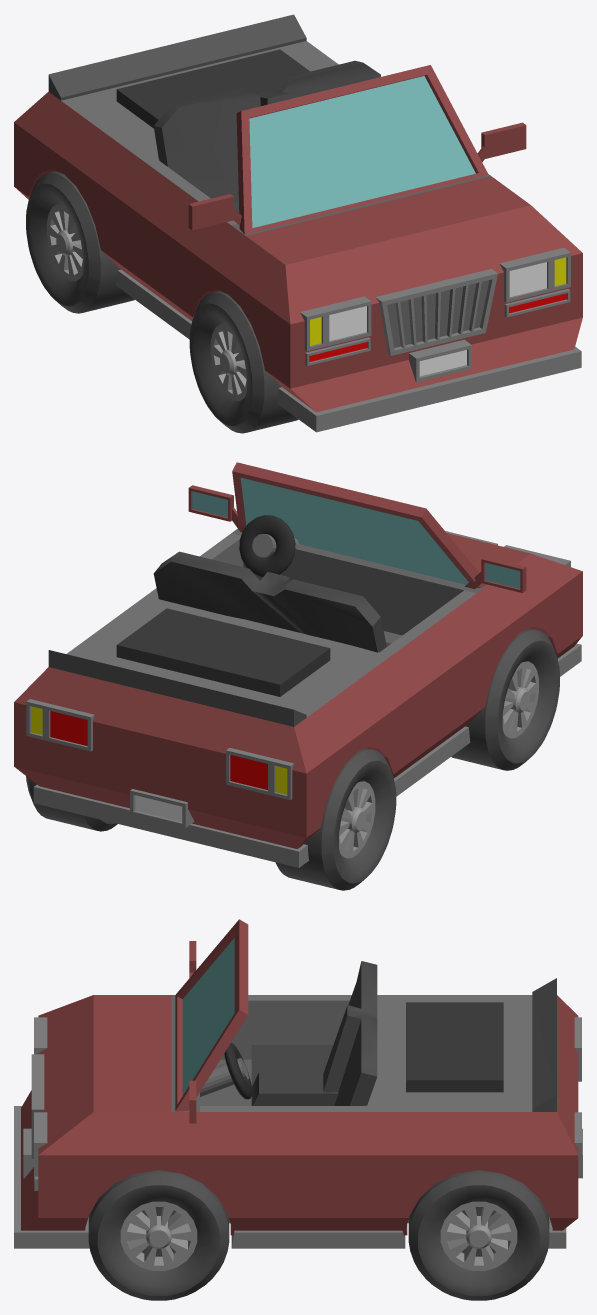
Rendered from Carritodeportivo.fbx.
3 renders of one model, top to bottom at view 1: azimuth 30°, elevation 25°; view 2: azimuth 150°, elevation 25°; view 3: azimuth 270°, elevation 25°, orthographic. The views are drawn at different scales.
Parts seen in each view (by area): view 1: polySurface1, pCube6, pCylinder2, pCube7, polySurface2, pCube2, pCube9, pCube1, pCube5, pCube3, pCube4; view 2: polySurface1, pCylinder2, pCube6, pCube7, pCube9, polySurface2, pCube1, pCube5, pTorus1, pCube4; view 3: polySurface1, pCylinder2, pCube9, pCube6, polySurface2, pCube7, pCube8, pCube1, pCube2, pTorus1, pCylinder3, pCube5 (+1 smaller).
Boxes of the visible parts, x1=… form: polySurface1: x1=14, y1=14, x2=582, y2=412; pCube6: x1=236, y1=65, x2=488, y2=234; pCylinder2: x1=26, y1=171, x2=298, y2=433; pCube7: x1=153, y1=60, x2=380, y2=202; polySurface2: x1=116, y1=269, x2=581, y2=432; pCube2: x1=375, y1=269, x2=497, y2=355; pCube9: x1=116, y1=49, x2=309, y2=128; pCube1: x1=300, y1=247, x2=570, y2=351; pCube5: x1=188, y1=122, x2=526, y2=230; pCube3: x1=305, y1=289, x2=570, y2=365; pCube4: x1=409, y1=339, x2=471, y2=382; polySurface1: x1=14, y1=528, x2=582, y2=848; pCylinder2: x1=26, y1=628, x2=559, y2=890; pCube6: x1=232, y1=462, x2=486, y2=587; pCube7: x1=153, y1=551, x2=386, y2=652; pCube9: x1=116, y1=608, x2=330, y2=696; polySurface2: x1=33, y1=643, x2=581, y2=867; pCube1: x1=26, y1=545, x2=570, y2=800; pCube5: x1=188, y1=485, x2=526, y2=592; pTorus1: x1=239, y1=515, x2=295, y2=577; pCube4: x1=130, y1=789, x2=194, y2=827; polySurface1: x1=21, y1=978, x2=578, y2=1235; pCylinder2: x1=88, y1=1170, x2=549, y2=1300; pCube9: x1=406, y1=1002, x2=503, y2=1092; pCube6: x1=175, y1=919, x2=248, y2=1111; polySurface2: x1=14, y1=1106, x2=566, y2=1248; pCube7: x1=323, y1=961, x2=377, y2=1105; pCube8: x1=251, y1=1045, x2=338, y2=1105; pCube1: x1=34, y1=1017, x2=581, y2=1176; pCube2: x1=31, y1=1054, x2=44, y2=1158; pTorus1: x1=224, y1=1042, x2=252, y2=1099; pCylinder3: x1=200, y1=1058, x2=248, y2=1096; pCube5: x1=189, y1=941, x2=196, y2=1123.
Bounding box in the file's own units: 3.07 × 2.41 × 4.63.
